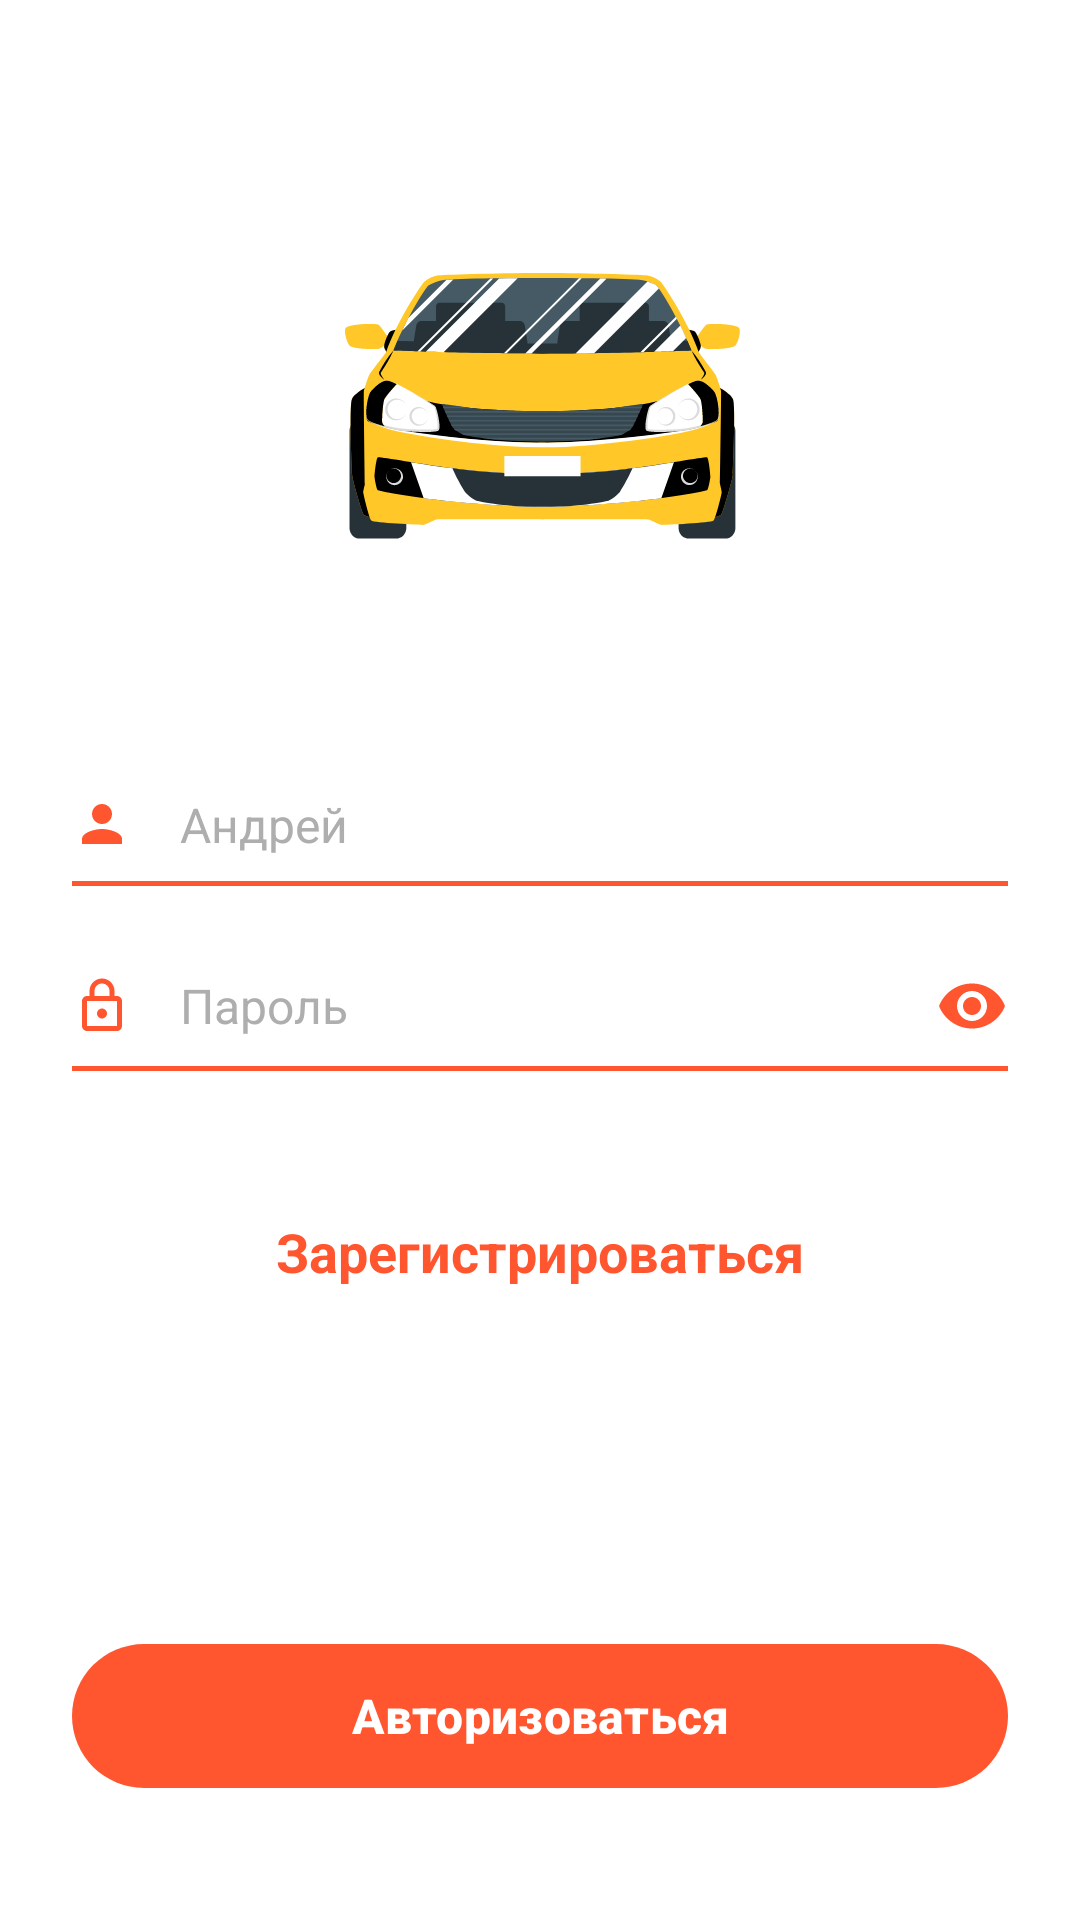

Screen size 1080*1920. Icon name, then its center in pixels as point (x, y):
lock: point (102, 1004)
person: point (102, 824)
Toggle Password Visibility: point (972, 1006)
